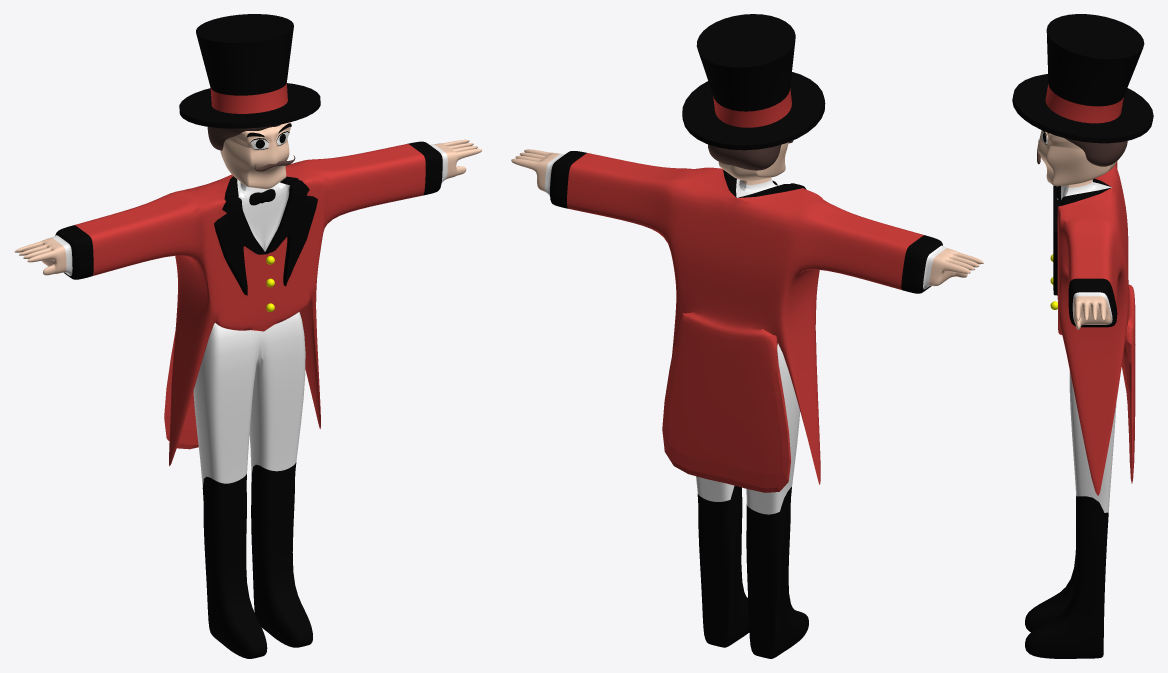
File: Circus Master.fbx
3 views of the same model, side by side, from view 1: azimuth 30°, elevation 25°; view 2: azimuth 150°, elevation 25°; view 3: azimuth 270°, elevation 25° (orthographic).
Parts seen in each view (by area): view 1: Body, Hat, Head; view 2: Body, Hat, Hair, Head; view 3: Body, Hat, Head, Hair.
Boxes of the visible parts, x1,y1,x2,y2 form: Body: [14, 139, 482, 658]; Hat: [179, 14, 320, 128]; Head: [220, 122, 291, 189]; Body: [511, 149, 983, 658]; Hat: [682, 14, 825, 150]; Hair: [708, 144, 781, 170]; Head: [718, 142, 788, 180]; Body: [1025, 161, 1135, 658]; Hat: [1012, 14, 1153, 143]; Head: [1037, 130, 1116, 186]; Hair: [1065, 138, 1127, 166].
Bounding box in the file's own units: 537 × 689 × 144.
